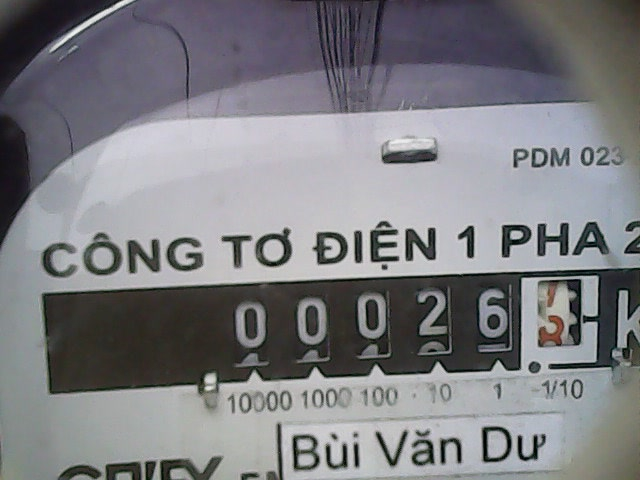phy_plate: (223, 268, 638, 384)
